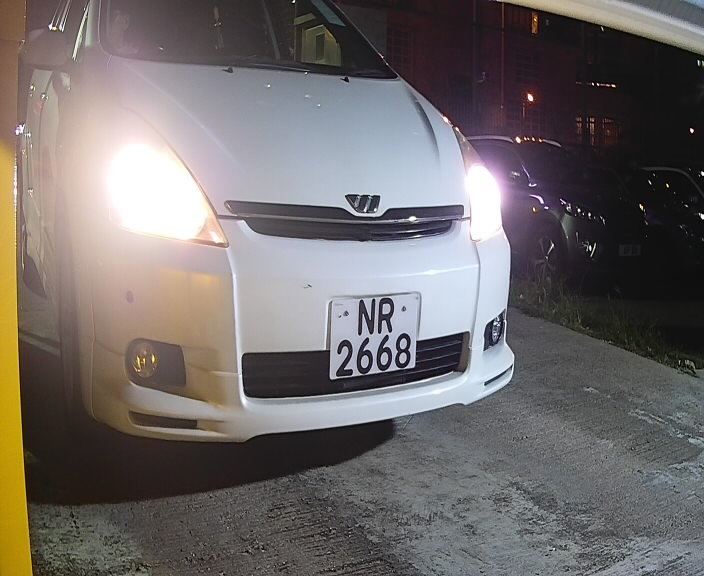Car: (21, 3, 528, 477)
License Plate: (321, 287, 430, 389)
